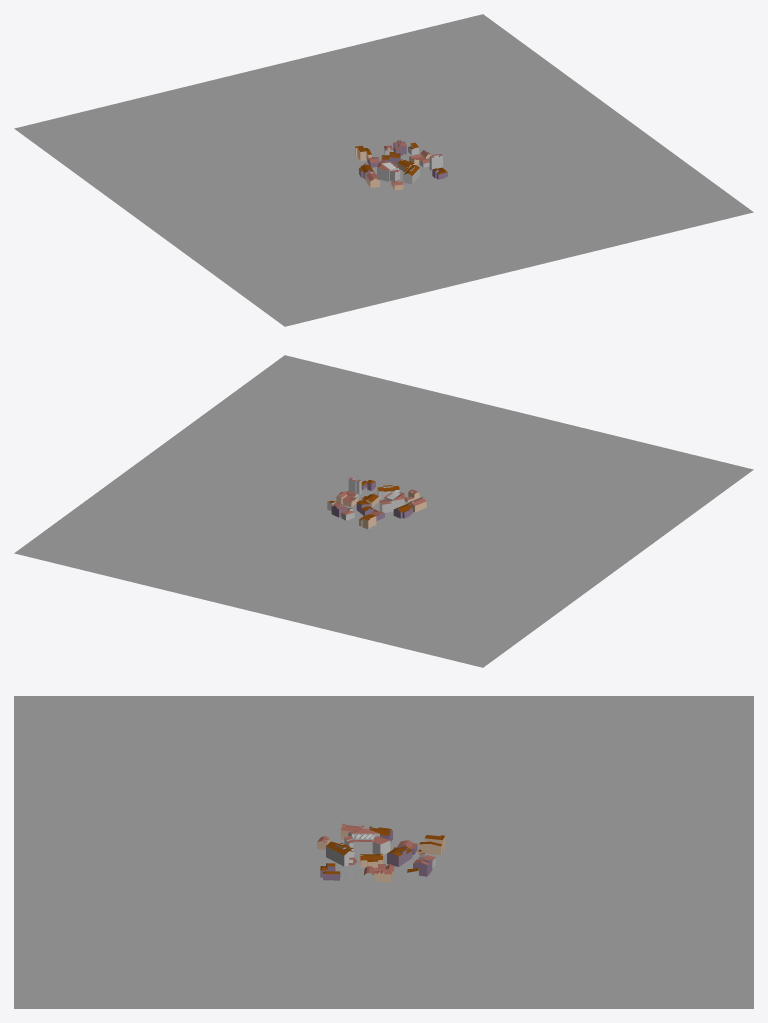
3 views of the same model, one above another, from view 1: azimuth 30°, elevation 25°; view 2: azimuth 150°, elevation 25°; view 3: azimuth 270°, elevation 25° (orthographic). The views are drawn at different scales.
Parts seen in each view (by area): view 1: 0; view 2: 0; view 3: 0.
Boxes of the visible parts, x1,y1,x2,y2 form: 0: (14,14,753,326); 0: (14,355,753,667); 0: (14,696,753,1008).
Bounding box in the file's own units: 517 × 15.02 × 517.
